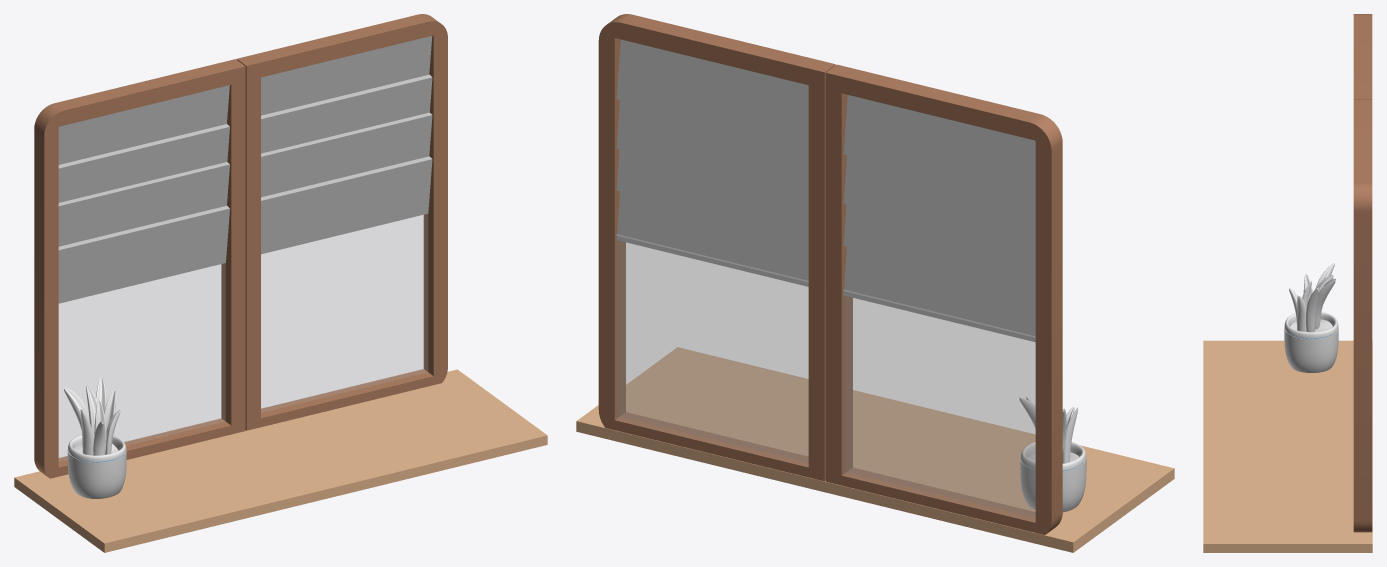
File: casement-window.glb
The picture shows the model from 3 angles, left to right: view 1: azimuth 30°, elevation 25°; view 2: azimuth 150°, elevation 25°; view 3: azimuth 270°, elevation 25°; orthographic projection. The views are drawn at different scales.
Parts seen in each view (by area): view 1: Cube, Plane.026, Plane.031, Plane.030, Plane.029, Plane.027, Plane.028, Cube.054; view 2: Cube, Plane.026, Plane.031, Plane.027, Plane.030, Plane.028, Plane.029, Cube.054; view 3: Plane.031, Plane.026, Cube.054, NurbsPath.029, NurbsPath.027, NurbsPath.031.
Part boxes in pixels (x1,y1,x2,y2): Cube: (59, 214, 427, 461); Plane.026: (34, 14, 447, 478); Plane.031: (14, 369, 547, 552); Plane.030: (58, 156, 432, 303); Plane.029: (58, 112, 432, 246); Plane.027: (58, 36, 432, 164); Plane.028: (58, 74, 432, 202); Cube.054: (67, 435, 126, 498); Cube: (615, 234, 1035, 521); Plane.026: (598, 14, 1062, 534); Plane.031: (576, 347, 1174, 552); Plane.027: (616, 39, 1035, 201); Plane.030: (616, 191, 1035, 342); Plane.028: (616, 100, 1035, 250); Plane.029: (616, 149, 1035, 292); Cube.054: (1020, 442, 1086, 512); Plane.031: (1203, 340, 1372, 552); Plane.026: (1353, 14, 1372, 532); Cube.054: (1284, 312, 1338, 372); NurbsPath.029: (1306, 287, 1318, 332); NurbsPath.027: (1315, 278, 1335, 329); NurbsPath.031: (1297, 296, 1306, 331).
Bounding box in the file's own units: 4.54 × 3.66 × 1.6.
